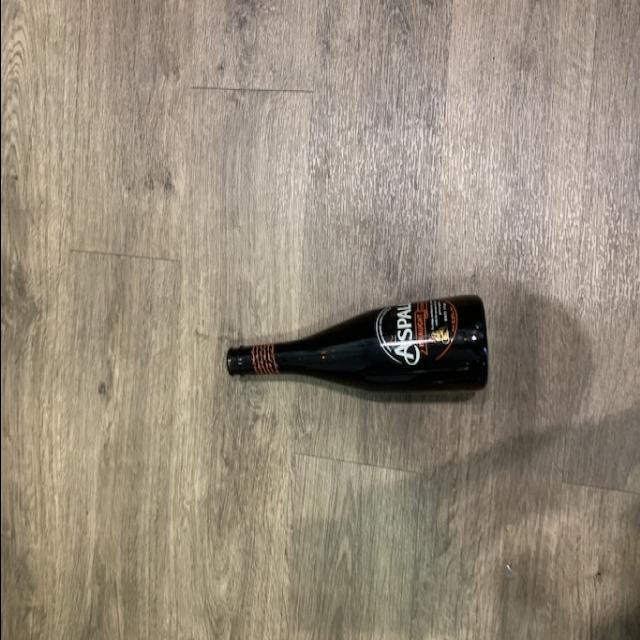litter: (222, 288, 489, 402)
